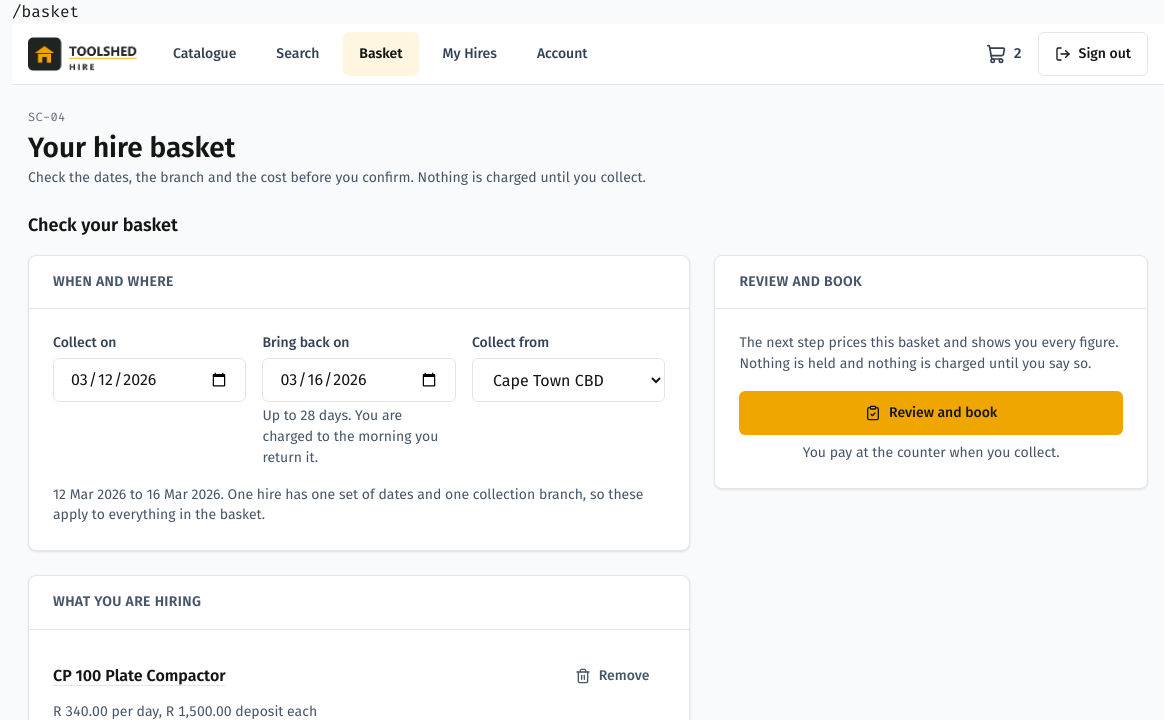
Test: holding the equipment › offers the hold only when the server says the draft can be held
Click the button "Review and book". click: (931, 413)
box: [739, 391, 1123, 435]
(page scrolled)
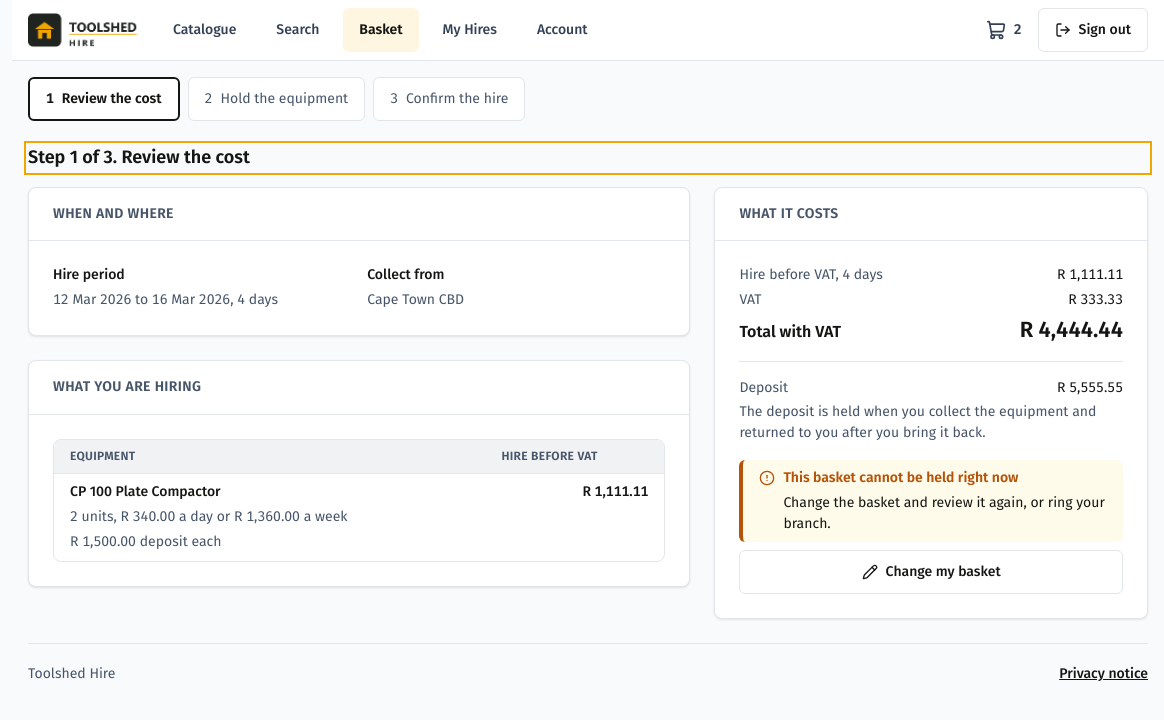
Now the text "This basket cannot be held right now" is shown, box [783, 469, 1018, 486]
Now the button "Change my basket" is enabled, box [739, 550, 1123, 594]
